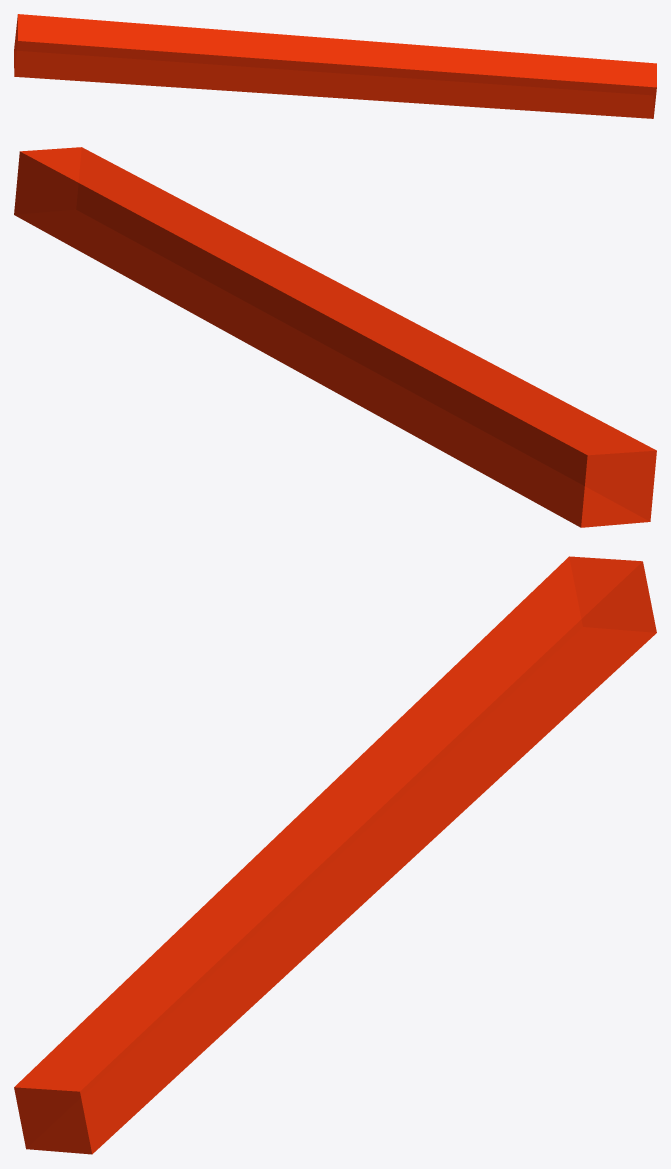
File: Event_421556567_EBrechit_3.fbx
The picture shows the model from 3 angles, top to bottom: view 1: azimuth 30°, elevation 25°; view 2: azimuth 150°, elevation 25°; view 3: azimuth 270°, elevation 25°; orthographic projection. The views are drawn at different scales.
Parts seen in each view (by area): view 1: Model; view 2: Model; view 3: Model.
Boxes of the visible parts, left/top/right/bottom form: Model: left=14, top=14, right=656, bottom=118; Model: left=14, top=147, right=656, bottom=527; Model: left=14, top=556, right=656, bottom=1154.
Bounding box in the file's own units: 0.848 × 0.1524 × 0.5135.
